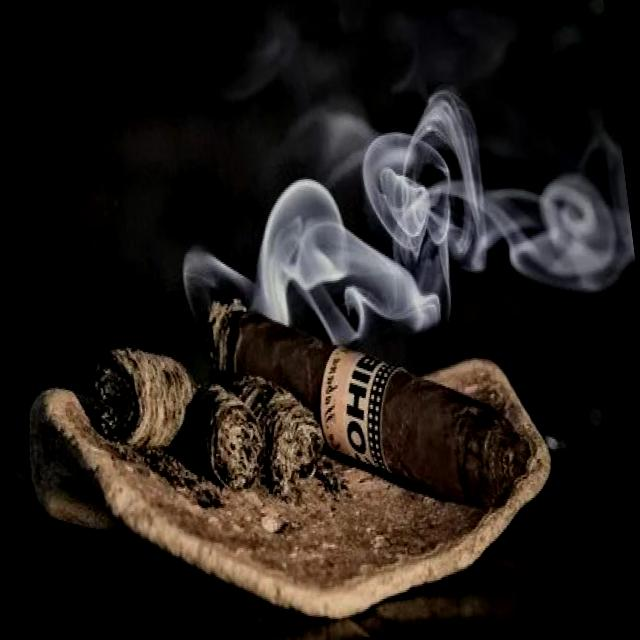smoke: (208, 256, 522, 550)
